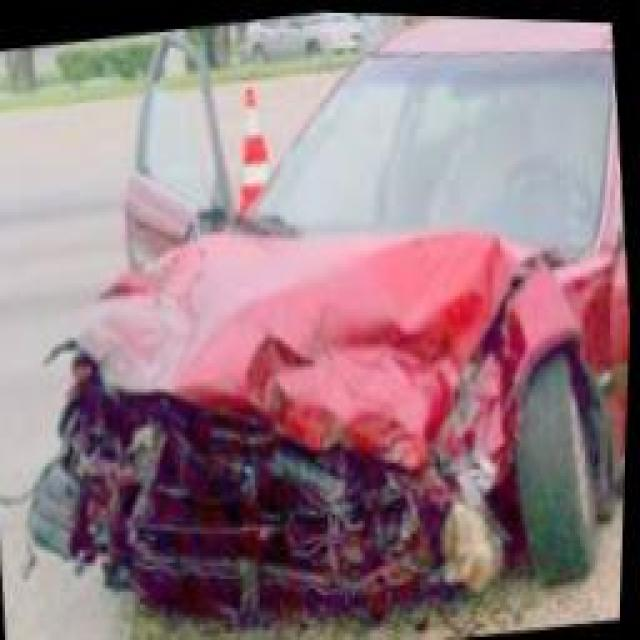Bonnet: (44, 223, 543, 463)
Bumper: (38, 404, 496, 626)
Fender: (437, 245, 630, 503)
